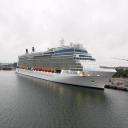cruises: (16, 37, 119, 93)
